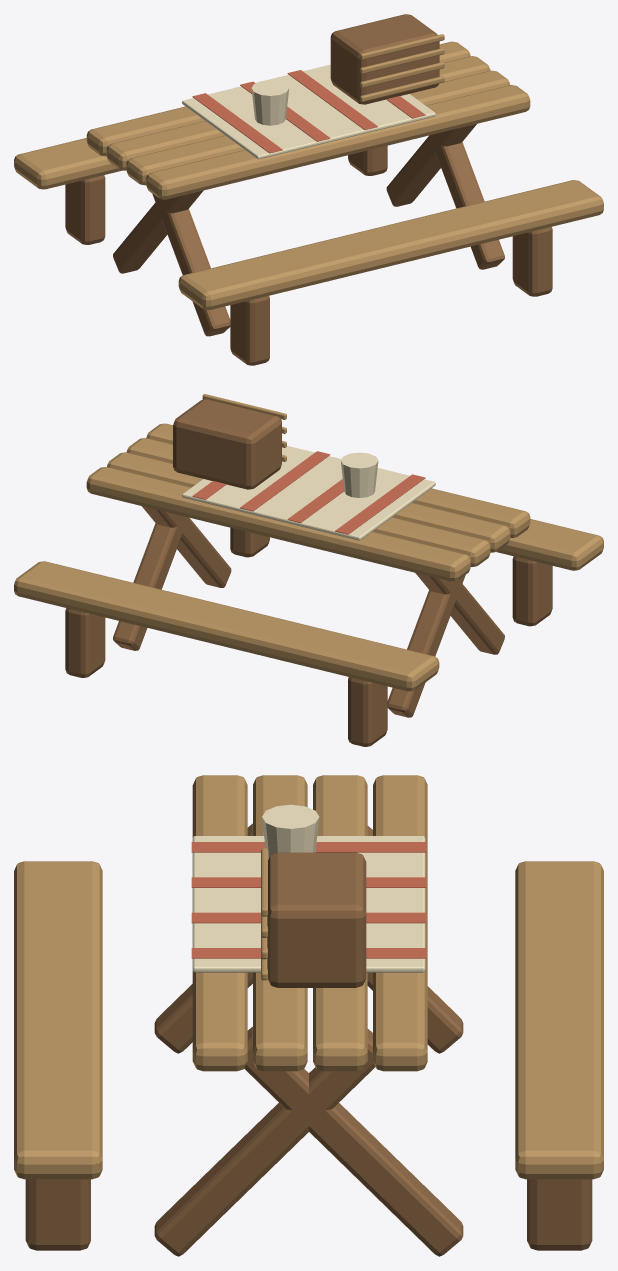
The model's file is trail_picnic.glb.
3 renders of one model, top to bottom at view 1: azimuth 30°, elevation 25°; view 2: azimuth 150°, elevation 25°; view 3: azimuth 270°, elevation 25°, orthographic. The views are drawn at different scales.
Parts seen in each view (by area): view 1: trail_picnic; view 2: trail_picnic; view 3: trail_picnic.
Part boxes in pixels (box(x1,y1,x2,y2)): trail_picnic: box(14, 14, 603, 365); trail_picnic: box(14, 394, 603, 746); trail_picnic: box(14, 775, 603, 1256).
Size of the model in its own units: 2.7 by 1.39 by 2.26.
